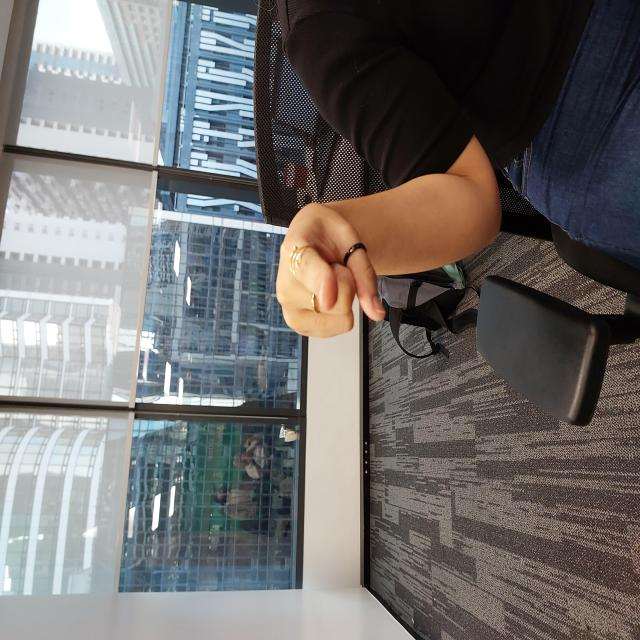Z: (298, 274, 442, 389)
